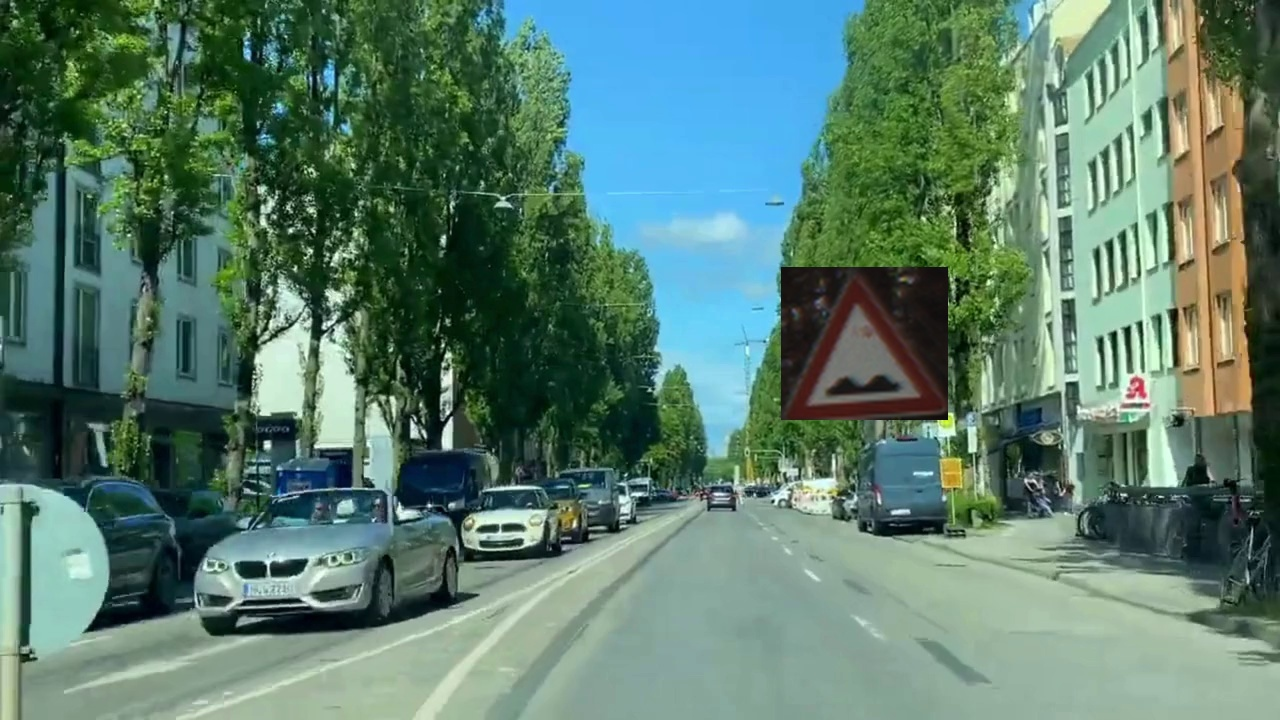Bumpy road: (781, 267, 948, 420)
